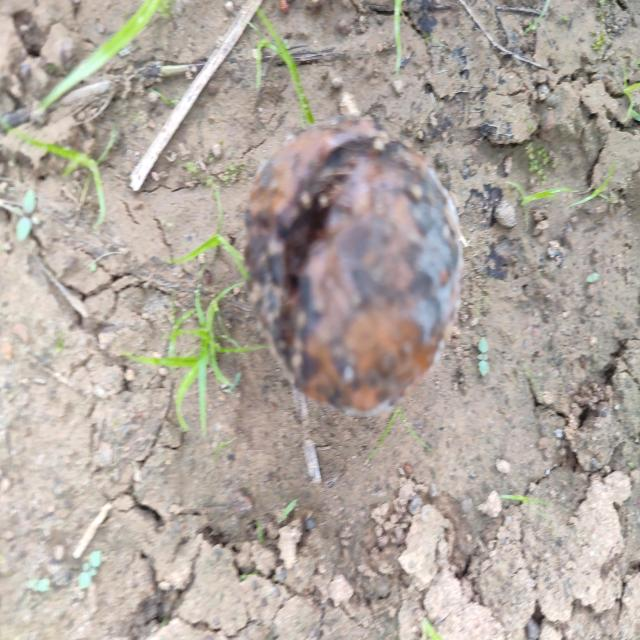damaged: (244, 115, 463, 413)
